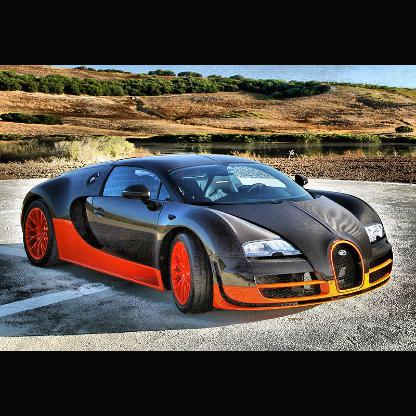Bugatti Veyron 16-4 Coupe 2009: (19, 155, 396, 319)
